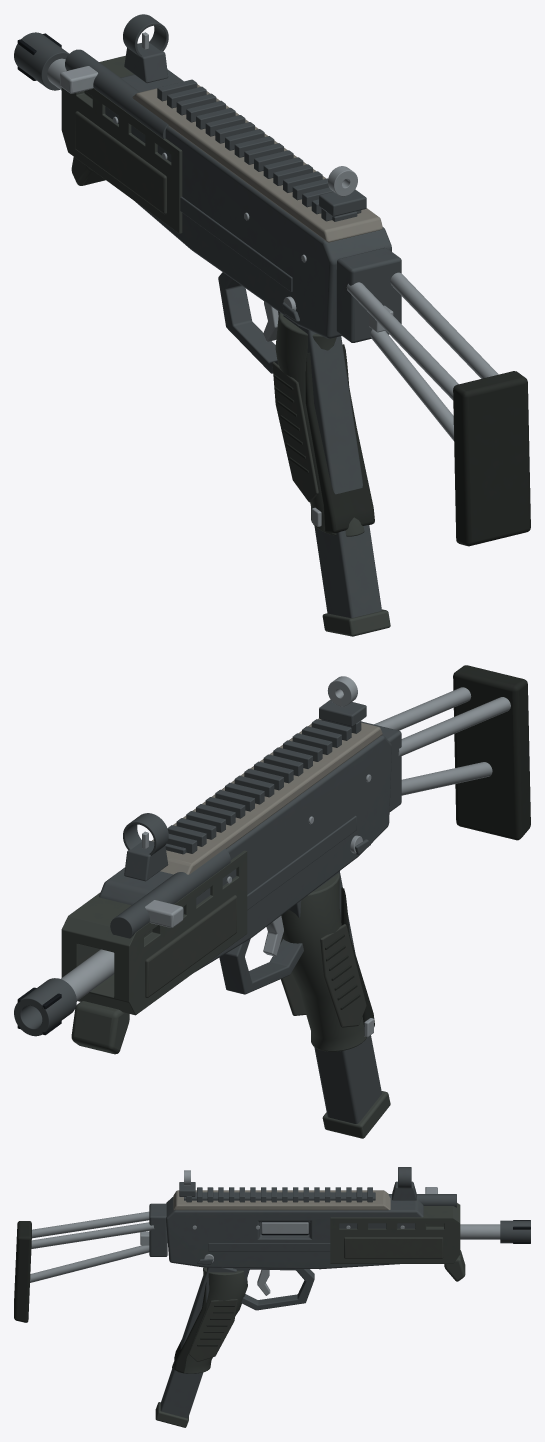
Rendered from hornet.glb.
The picture shows the model from 3 angles, top to bottom: view 1: azimuth 30°, elevation 25°; view 2: azimuth 150°, elevation 25°; view 3: azimuth 270°, elevation 25°; orthographic projection. The views are drawn at different scales.
Parts seen in each view (by area): view 1: Hornet_Static_Treated graphite, Hornet_Receiver, Hornet_Buttplate, Hornet_Magazine, Hornet_Static_Moulded polymer, Hornet_Static_Grip stipple, Hornet_TopCover, Hornet_Stock, Hornet_Static_Dense rubber, Hornet_Grip, Hornet_StockRod, Hornet_StockRod.001 (+4 smaller); view 2: Hornet_Static_Treated graphite, Hornet_Receiver, Hornet_Static_Moulded polymer, Hornet_Buttplate, Hornet_Static_Grip stipple, Hornet_Grip, Hornet_TopCover, Hornet_Magazine, Hornet_StockRod, Hornet_StockRodLower, Hornet_StockRod.001, Hornet_Barrel (+6 smaller); view 3: Hornet_Receiver, Hornet_Static_Treated graphite, Hornet_Static_Moulded polymer, Hornet_Static_Grip stipple, Hornet_TopCover, Hornet_Magazine, Hornet_Grip, Hornet_Buttplate, Hornet_StockRodLower, Hornet_StockRod.001, Hornet_StockRod, Hornet_Static_Dense rubber (+4 smaller).
Part boxes in pixels (x1,y1,x2,y2): Hornet_Static_Treated graphite: (14, 14, 366, 373); Hornet_Receiver: (105, 69, 391, 338); Hornet_Buttplate: (453, 371, 530, 546); Hornet_Magazine: (283, 315, 381, 617); Hornet_Static_Moulded polymer: (61, 55, 182, 233); Hornet_Static_Grip stipple: (75, 111, 355, 502); Hornet_TopCover: (132, 84, 382, 242); Hornet_Stock: (336, 247, 401, 342); Hornet_Static_Dense rubber: (273, 344, 374, 533); Hornet_Grip: (275, 313, 364, 536); Hornet_StockRod: (346, 282, 458, 400); Hornet_StockRod.001: (390, 272, 498, 378); Hornet_Static_Treated graphite: (14, 699, 370, 1036); Hornet_Receiver: (99, 735, 391, 972); Hornet_Static_Moulded polymer: (61, 850, 247, 1054); Hornet_Buttplate: (453, 665, 530, 840); Hornet_Static_Grip stipple: (145, 895, 366, 1027); Hornet_Grip: (280, 873, 366, 1051); Hornet_TopCover: (152, 718, 382, 874); Hornet_Magazine: (314, 871, 381, 1123); Hornet_StockRod: (398, 697, 510, 756); Hornet_StockRodLower: (401, 762, 492, 795); Hornet_StockRod.001: (374, 687, 471, 730); Hornet_Barrel: (61, 949, 114, 1000); Hornet_Receiver: (166, 1197, 423, 1269); Hornet_Static_Treated graphite: (179, 1167, 530, 1310); Hornet_Static_Moulded polymer: (330, 1203, 465, 1281); Hornet_Static_Grip stipple: (188, 1237, 443, 1361); Hornet_TopCover: (173, 1190, 390, 1210); Hornet_Magazine: (160, 1267, 236, 1418); Hornet_Grip: (172, 1267, 247, 1373); Hornet_Buttplate: (14, 1221, 31, 1322); Hornet_StockRodLower: (30, 1245, 149, 1282); Hornet_StockRod.001: (31, 1222, 154, 1248); Hornet_StockRod: (32, 1211, 149, 1238); Hornet_Static_Dense rubber: (174, 1282, 234, 1373).
Bounding box in the file's own units: 0.0665 × 0.3111 × 0.5719.
Materials: 7 (7 with a texture image).
